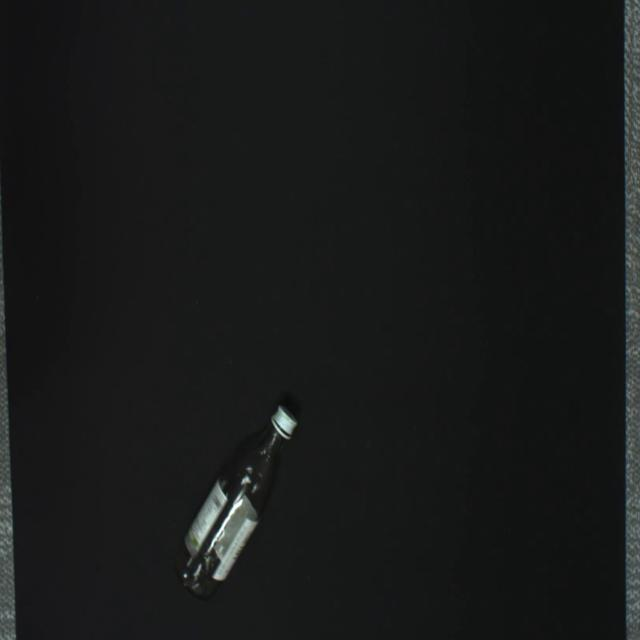soju-bottle: (173, 405, 298, 602)
